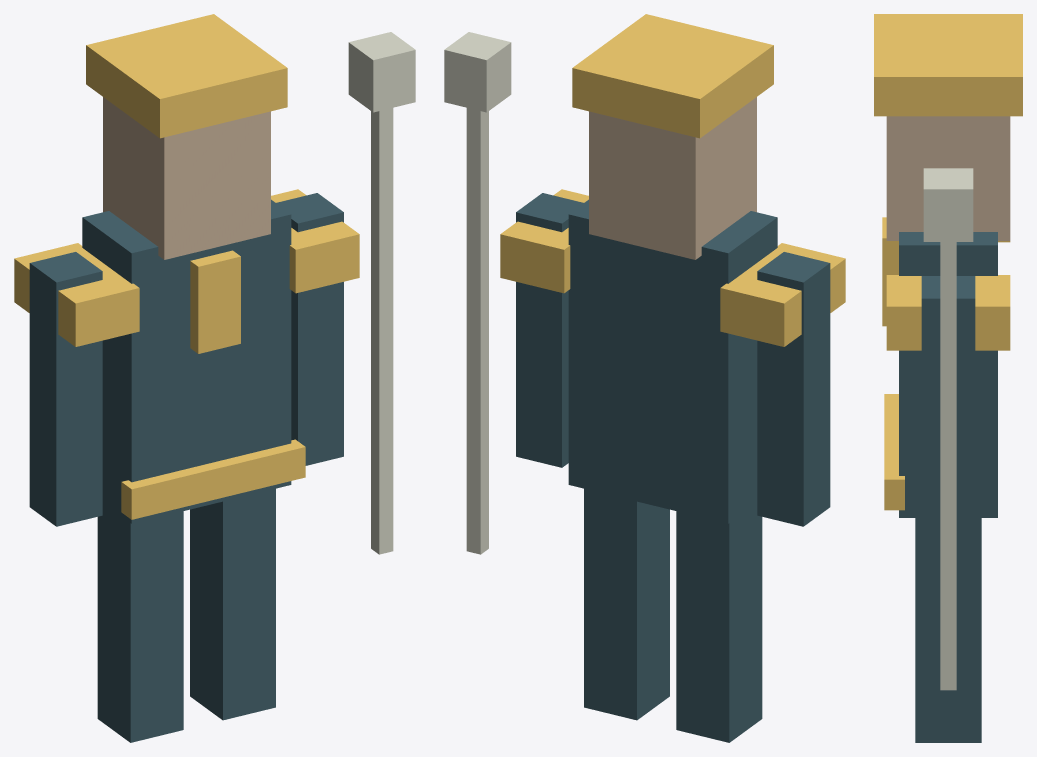
File: 07_astra_cinderholt_fixer_at_luminroot.glb
The picture shows the model from 3 angles, left to right: view 1: azimuth 30°, elevation 25°; view 2: azimuth 150°, elevation 25°; view 3: azimuth 270°, elevation 25°; orthographic projection.
Visible parts, largest first — view 1: Astra Cinderholt, Fixer at Luminroot; view 2: Astra Cinderholt, Fixer at Luminroot; view 3: Astra Cinderholt, Fixer at Luminroot.
Part boxes in pixels (left/top/right/bottom): Astra Cinderholt, Fixer at Luminroot: left=14, top=14, right=415, bottom=742; Astra Cinderholt, Fixer at Luminroot: left=444, top=14, right=845, bottom=742; Astra Cinderholt, Fixer at Luminroot: left=874, top=14, right=1022, bottom=742.
Size of the model in its own units: 0.9345 by 1.63 by 0.3315.
